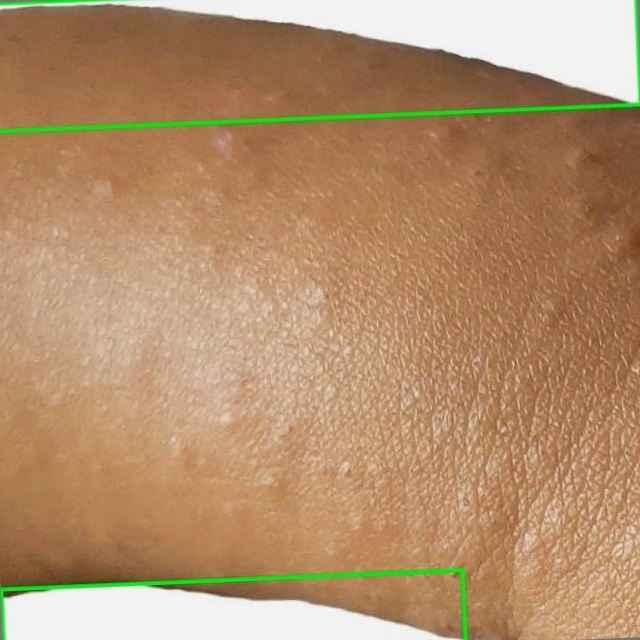Contact Dermatitis: (0, 0, 639, 131), (1, 570, 465, 639)
